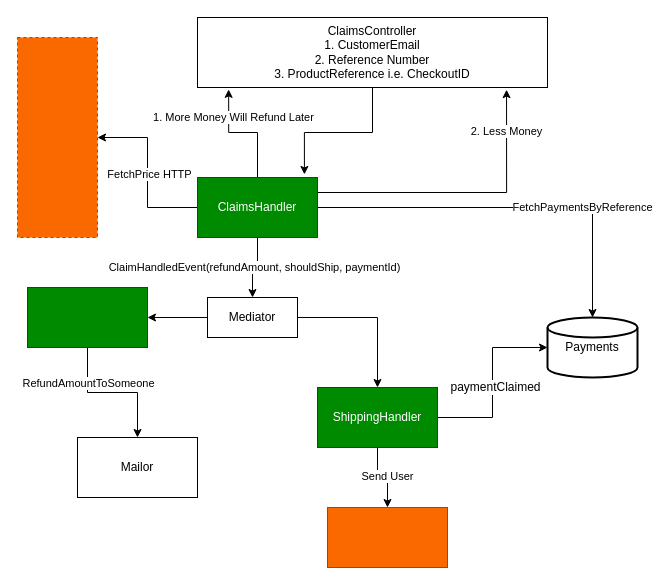
This 669x585 diagram has some shape labels left out. The box of each missing label's shape, as (x1, y1, x2, y2) in pixels:
External Callbak: (326, 506, 448, 568)
External Product Service: (16, 36, 98, 238)
RefundHandler: (26, 286, 148, 348)
